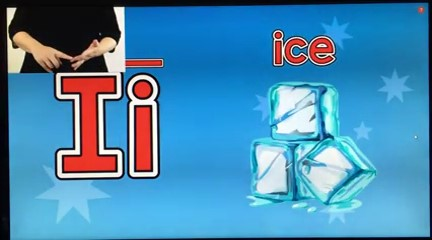I: (31, 36, 112, 71)
